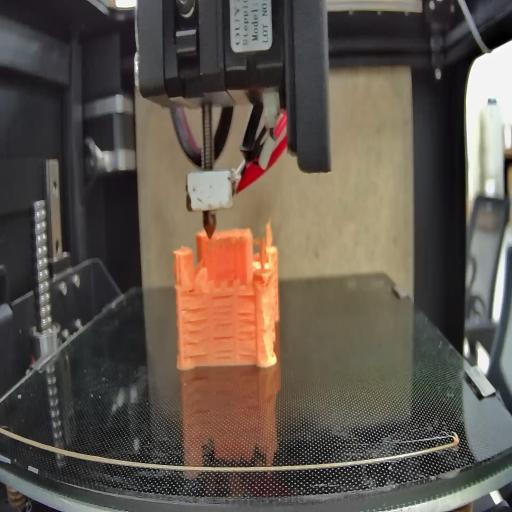cracks: (182, 308, 209, 359), (238, 295, 255, 361), (211, 294, 234, 328), (212, 334, 236, 363), (186, 284, 200, 296)
